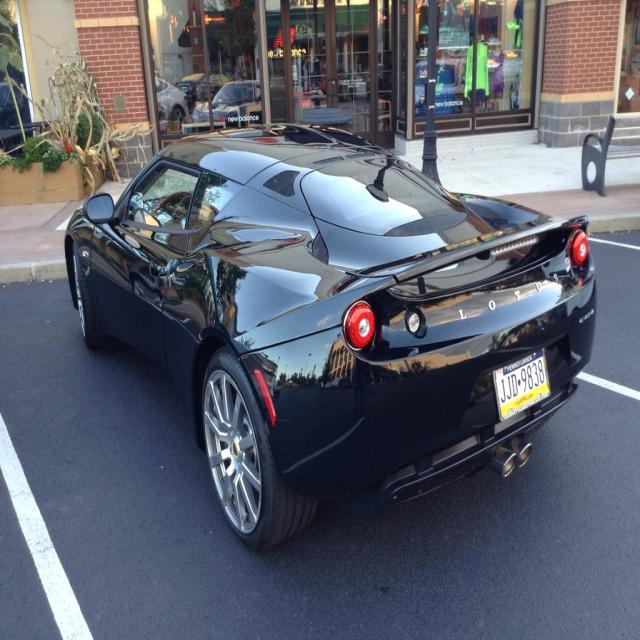car: (64, 130, 596, 551)
